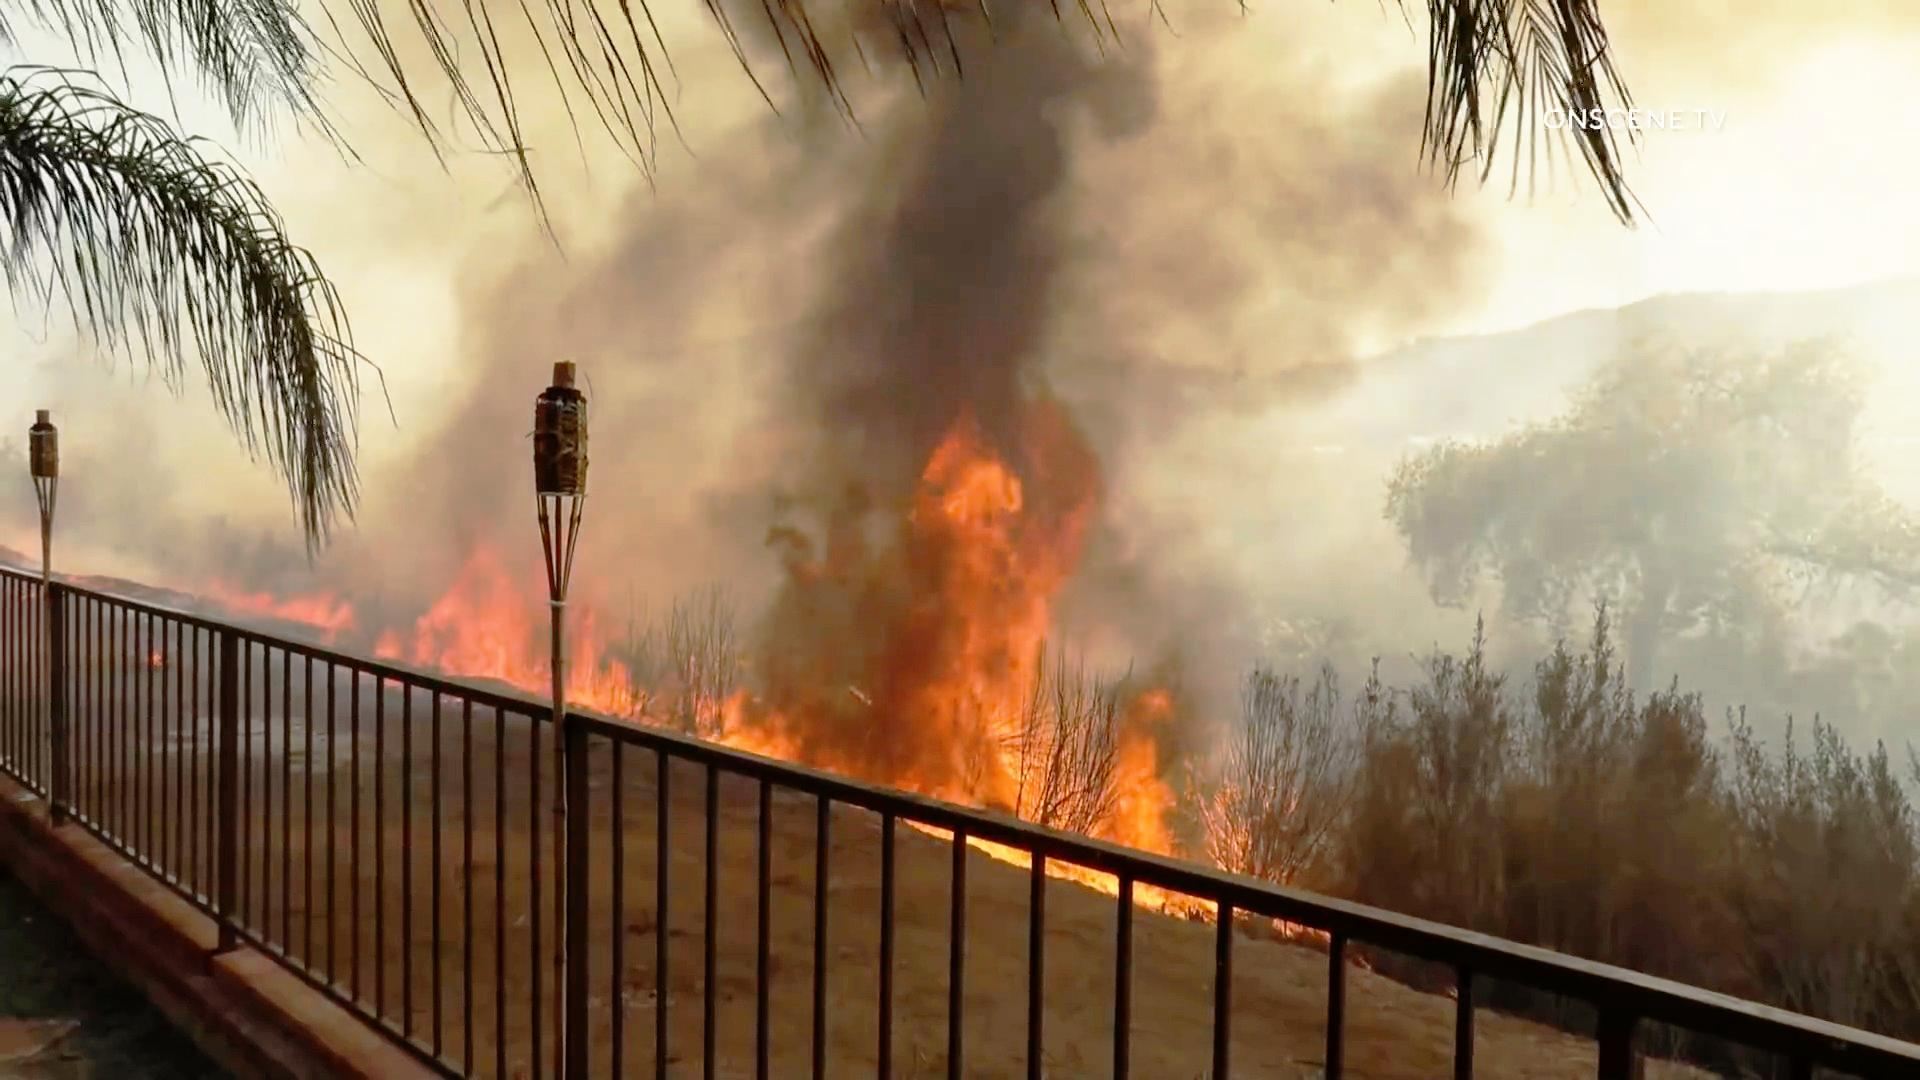fire: (920, 421, 1067, 774), (421, 543, 541, 691)
smoke: (823, 16, 1153, 390), (1166, 22, 1404, 369), (500, 133, 800, 332)
